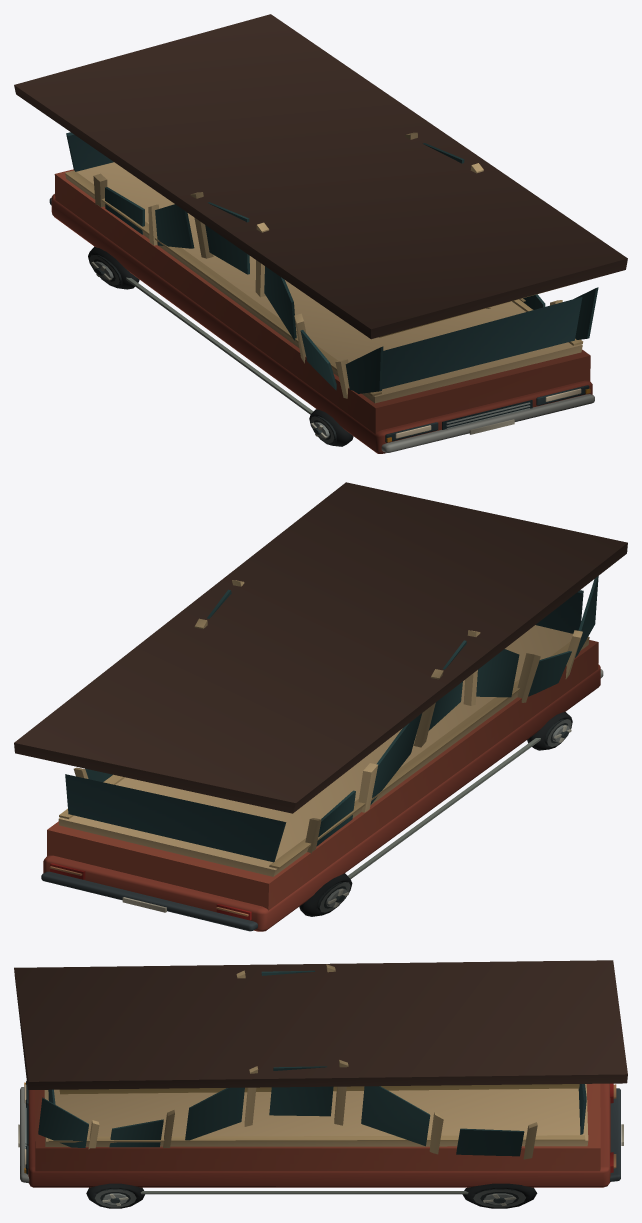
File: tram.glb
3 renders of one model, top to bottom at view 1: azimuth 30°, elevation 25°; view 2: azimuth 150°, elevation 25°; view 3: azimuth 270°, elevation 25°, orthographic. The views are drawn at different scales.
Visible parts, largest first — view 1: tram_body; view 2: tram_body; view 3: tram_body.
Boxes of the visible parts, <box> form: tram_body: <box>14,14,627,453</box>; tram_body: <box>14,482,627,931</box>; tram_body: <box>14,960,627,1208</box>.
Size of the model in its own units: 3 by 1.67 by 6.4.
